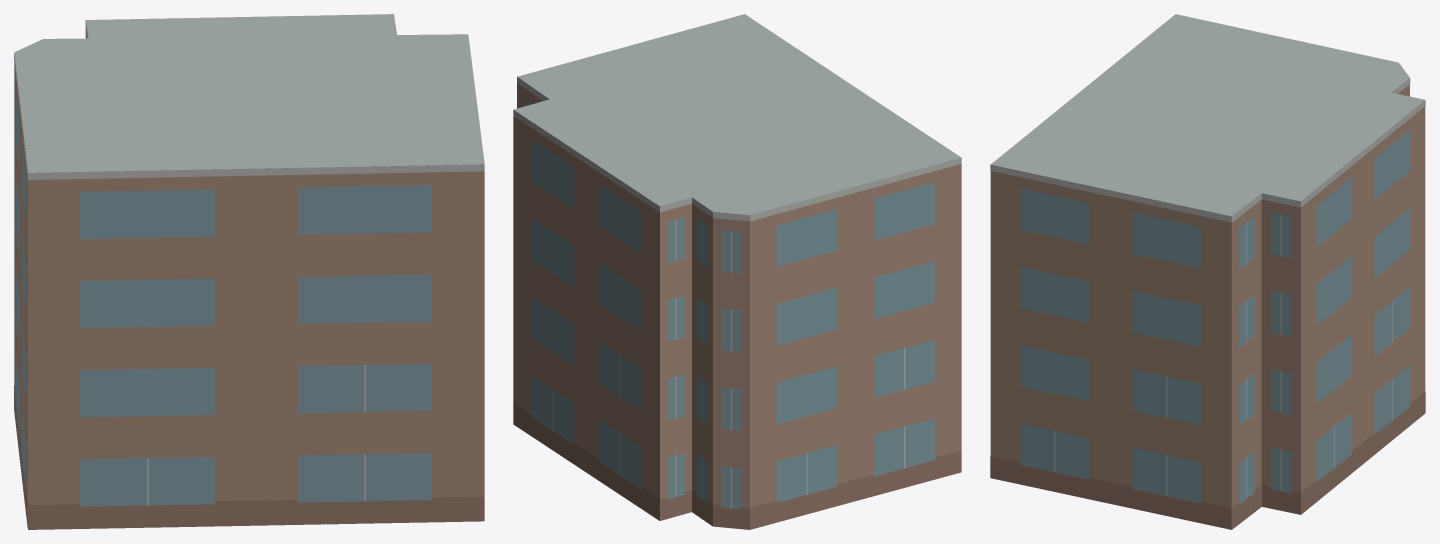
File: survey-upis-32932420.glb
The picture shows the model from 3 angles, left to right: view 1: azimuth 30°, elevation 25°; view 2: azimuth 150°, elevation 25°; view 3: azimuth 270°, elevation 25°; orthographic projection. The views are drawn at different scales.
Parts seen in each view (by area): view 1: survey-upis-32932420.tmp; view 2: survey-upis-32932420.tmp; view 3: survey-upis-32932420.tmp.
Part boxes in pixels (left/top/right/bottom): survey-upis-32932420.tmp: left=14, top=14, right=484, bottom=529; survey-upis-32932420.tmp: left=513, top=14, right=961, bottom=529; survey-upis-32932420.tmp: left=990, top=14, right=1425, bottom=529.
Size of the model in its own units: 17.18 by 12.4 by 15.6.
